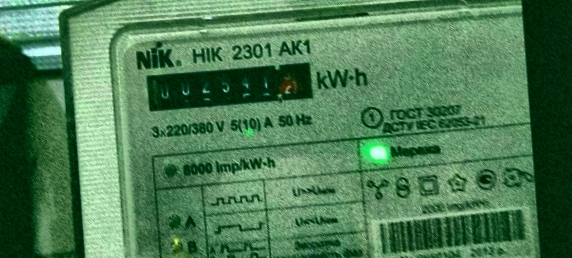0: (157, 77, 171, 99), (178, 74, 191, 96)
1: (258, 66, 271, 90)
2: (198, 71, 213, 94)
4: (238, 68, 251, 89)
5: (218, 70, 232, 94)
6: (281, 80, 293, 93)
screen: (133, 50, 325, 118)
